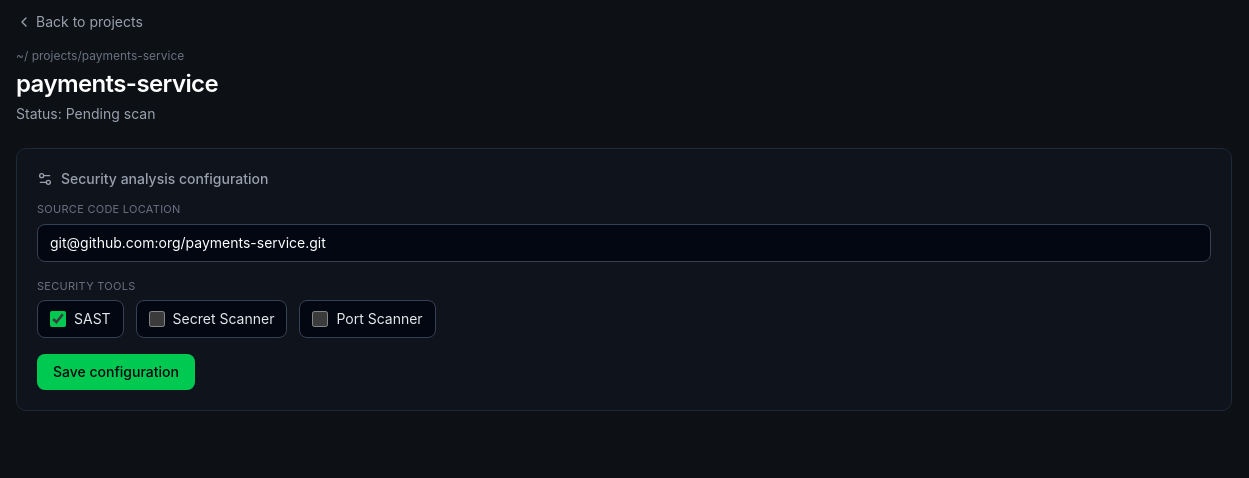
Test case: ProjectDetailView › saves the updated configuration
Replace the text in the field labelled "SOURCE CODE LOCATION" with "git@github.com:org/renamed.git" at x=624, y=242, box [37,224,1211,262]
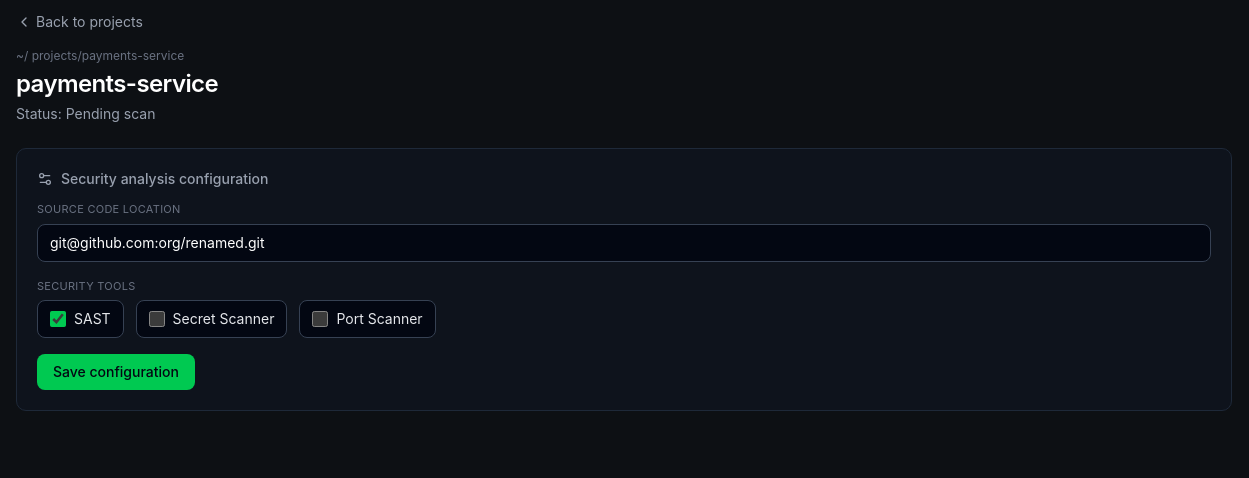
Click the checkbox labelled "Secret Scanner" at x=157, y=319, box [149,311,165,327]
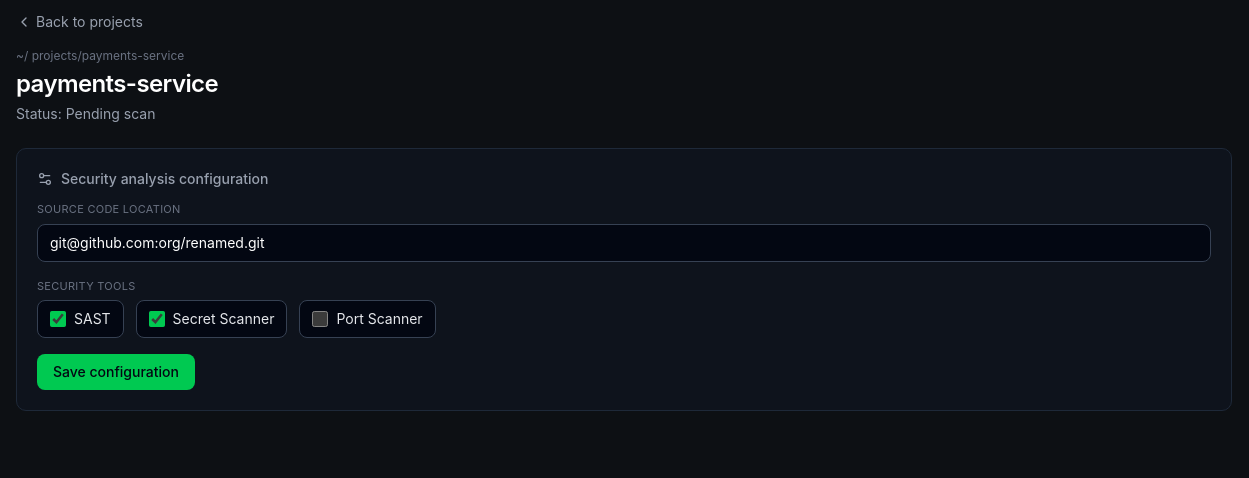
Submit the form, box [37,201,1211,390]
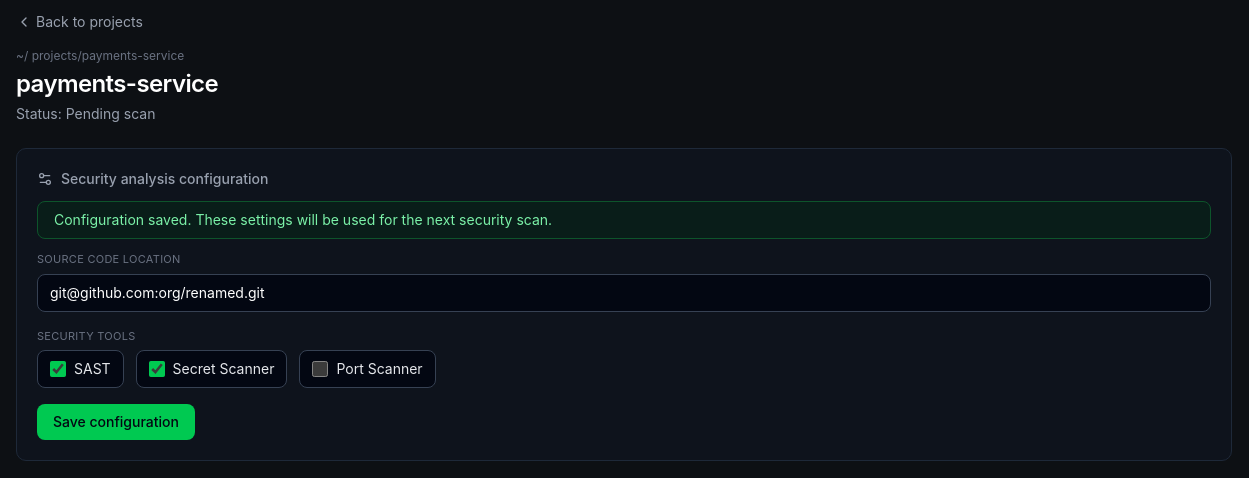
Check: the text "Configuration saved" is shown, box [54,211,552,228]
